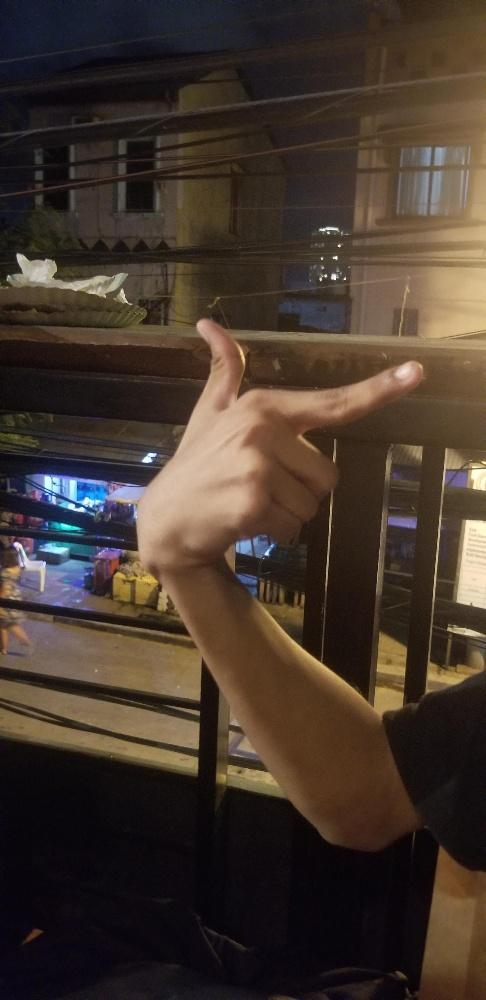g: (136, 313, 425, 569)
